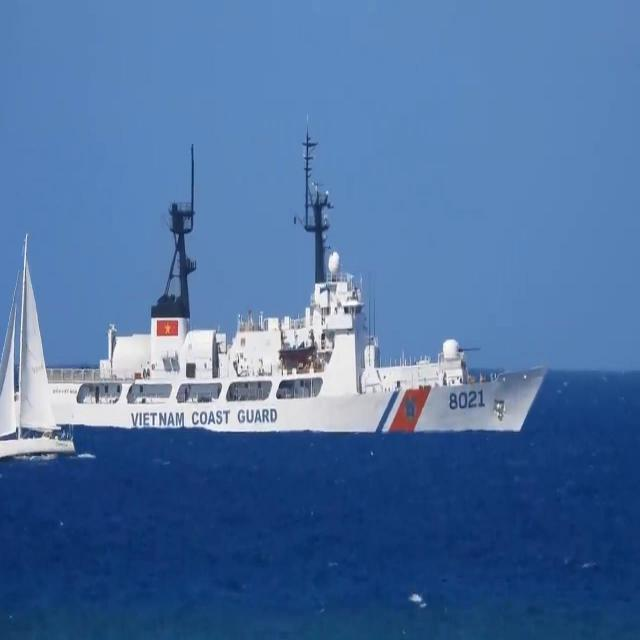Ship: (58, 142, 552, 440), (2, 210, 79, 464)
